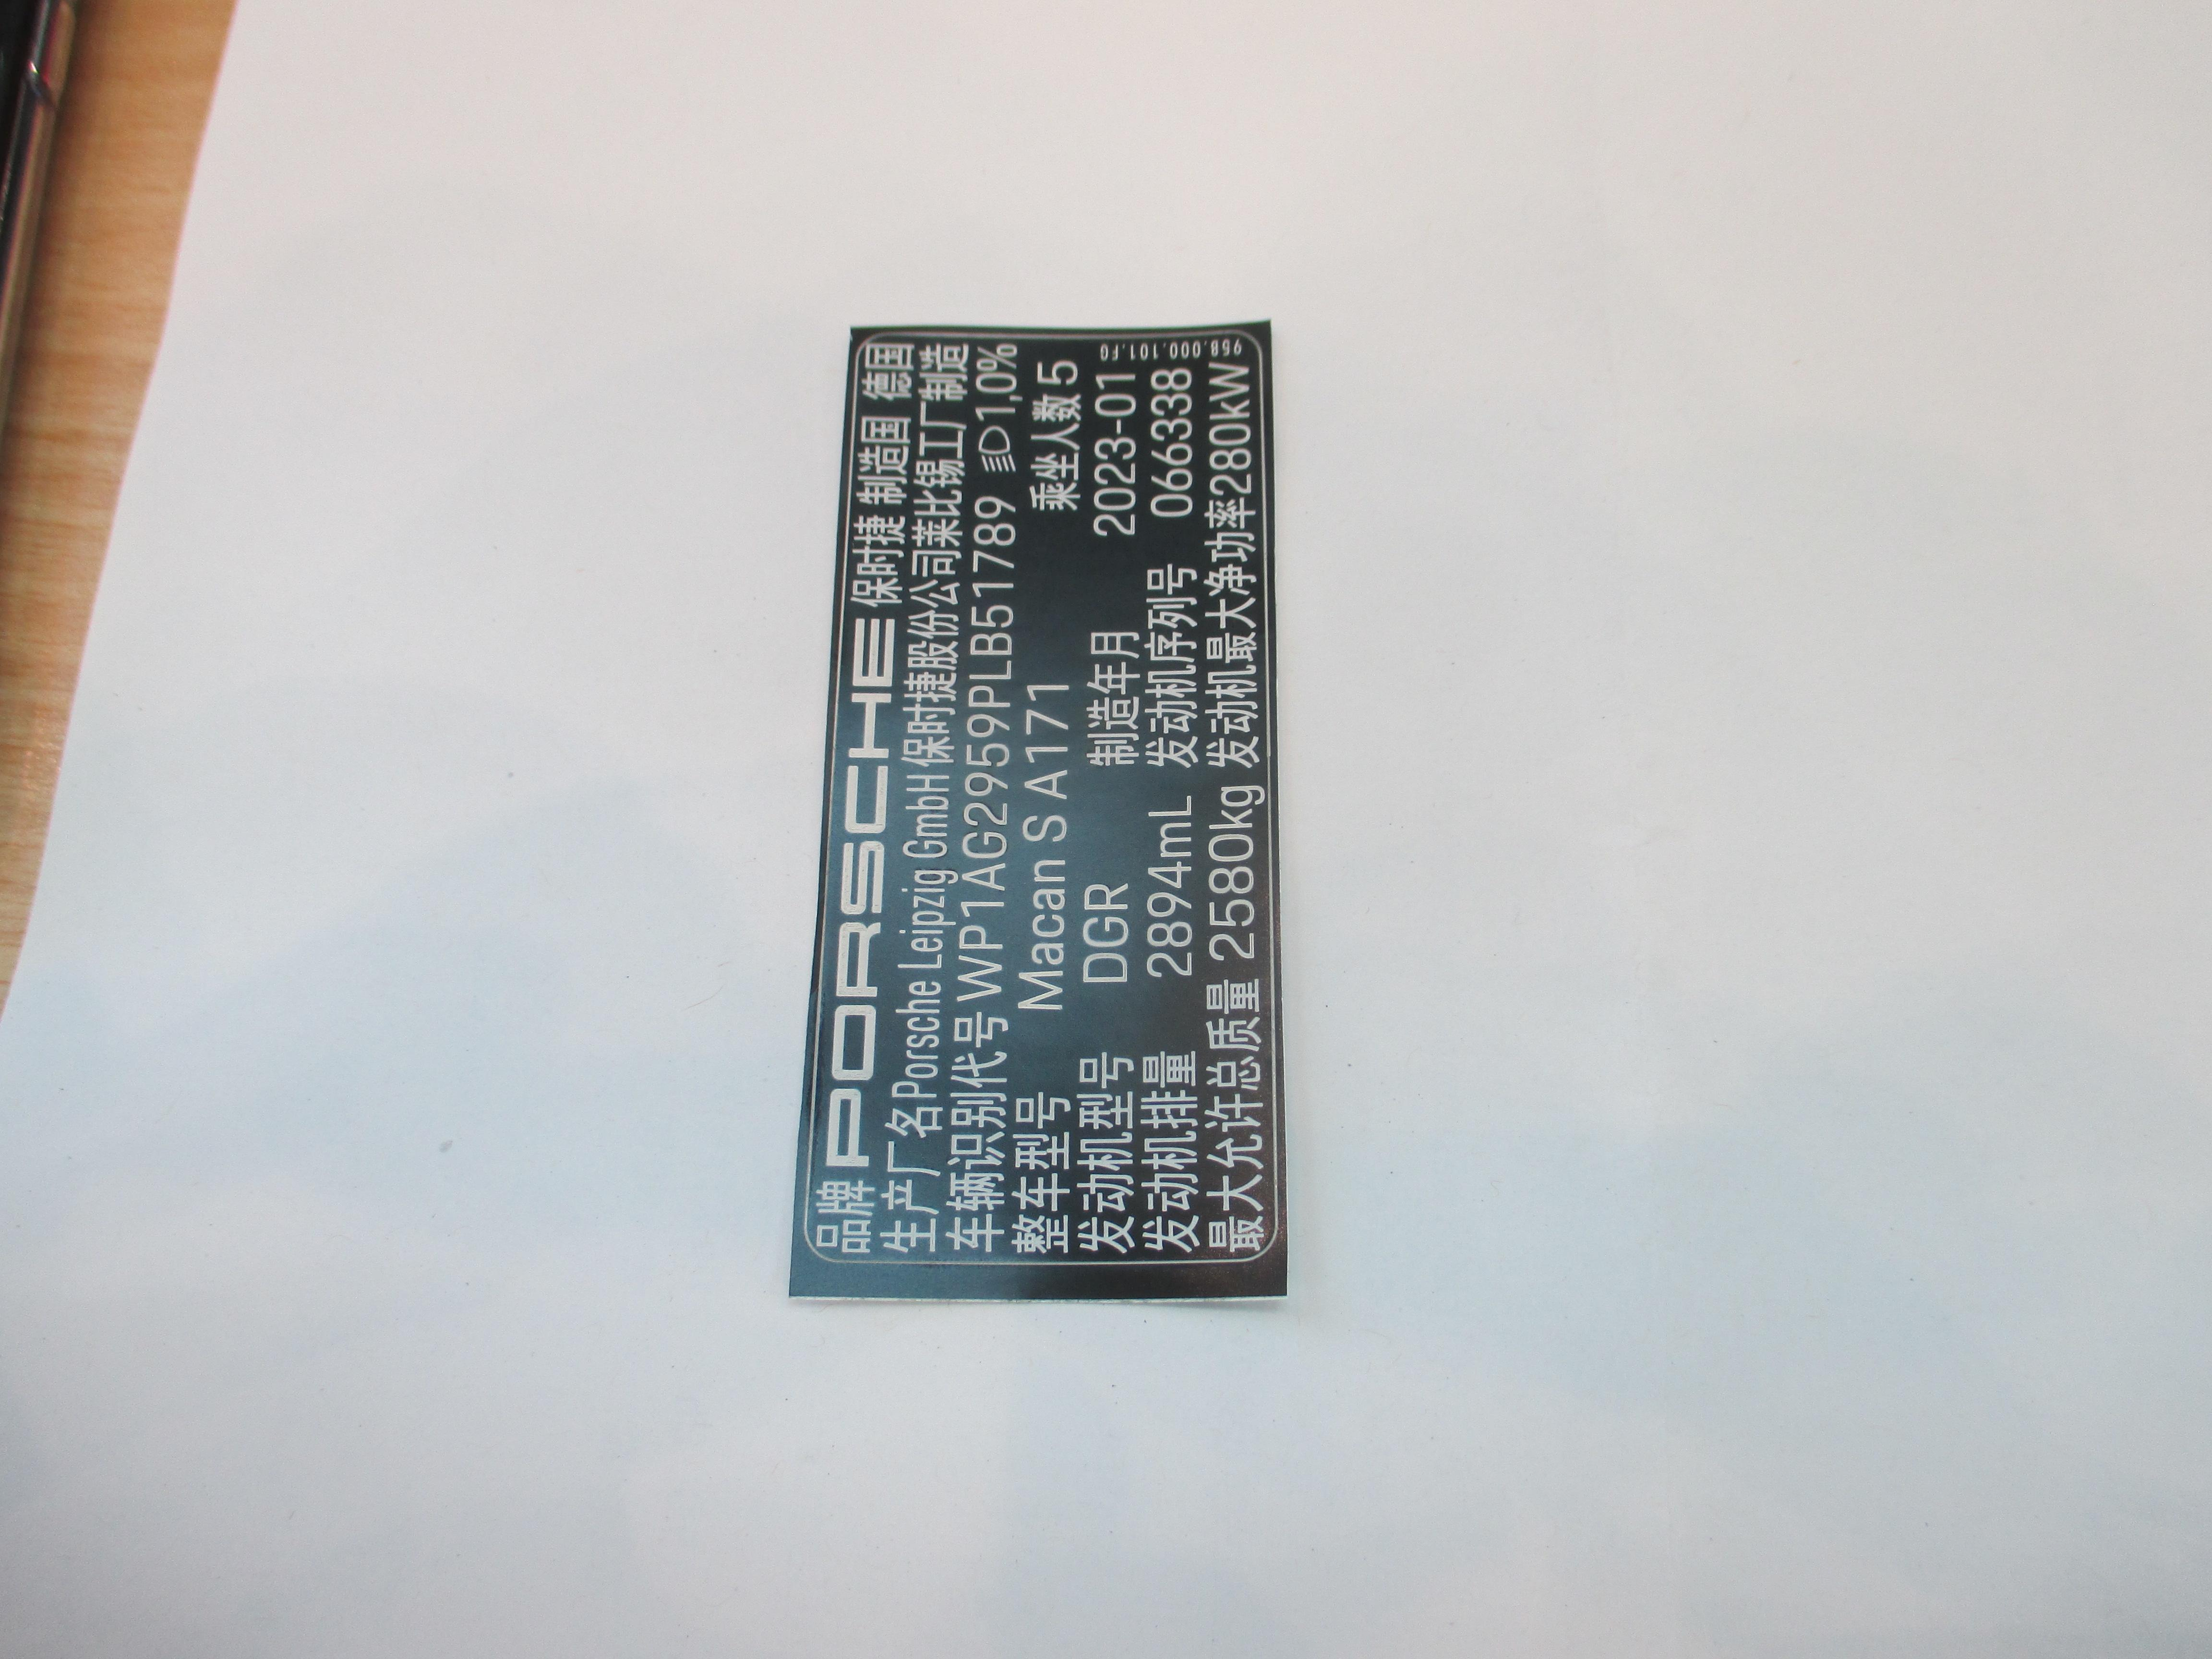Typlabel-China: (808, 335, 1273, 1260)
